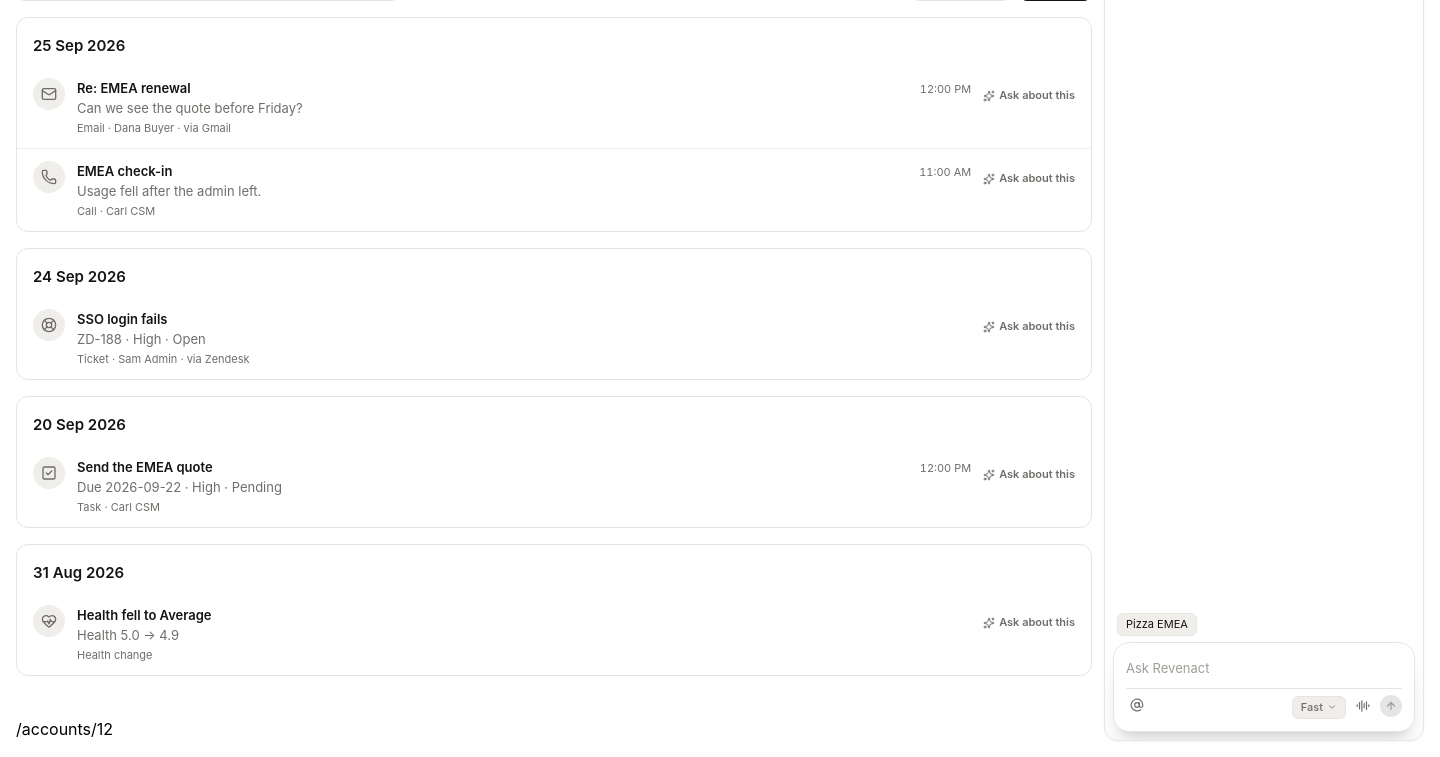
Scenario: Ask Revenact on an account page › refuses an account the asker can no longer open, with no Retry
(page scrolled)
Type "What changed?" into the field with placeholder "Ask Revenact". click: (1264, 668)
box: [1126,656,1402,680]
Then press Enter
(page scrolled)
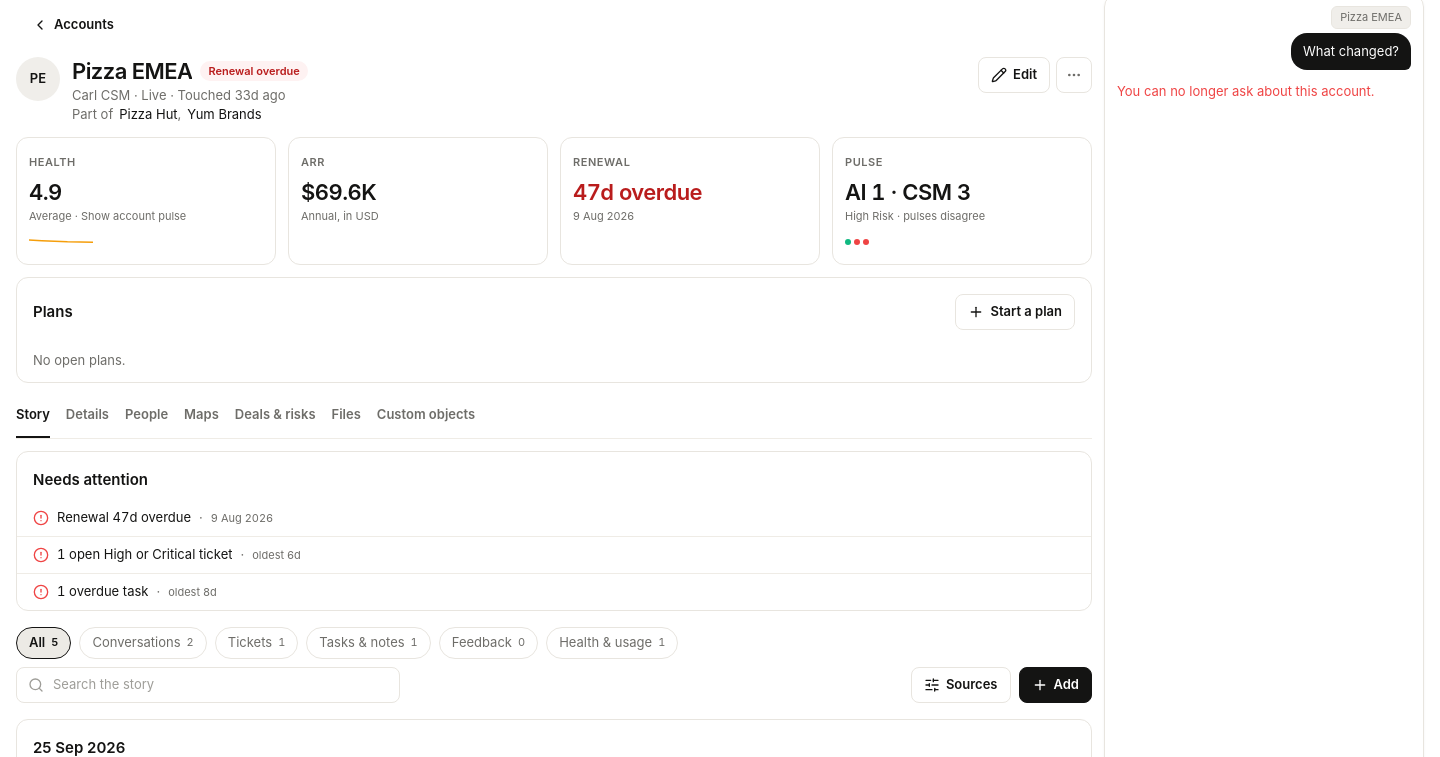
Expected: the message does not show "Choose All", [1117,82,1374,101]
Now the message reads "You can no longer ask about this account.", box [1117,83,1374,99]
